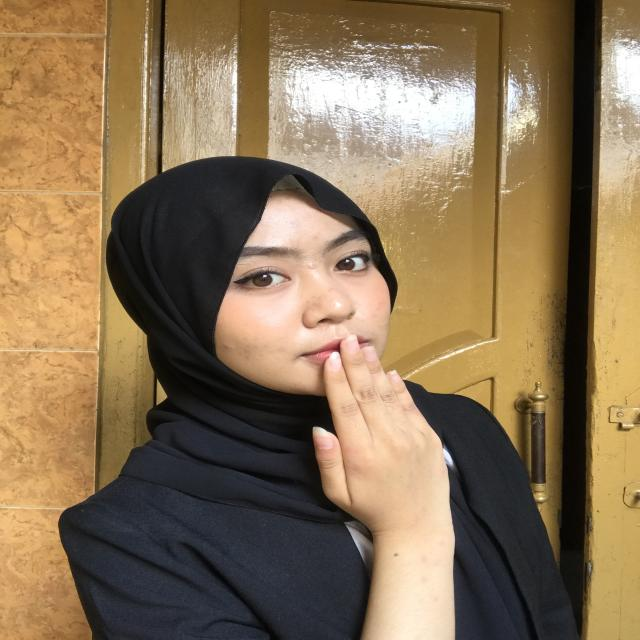ganteng: (290, 338, 463, 560)
